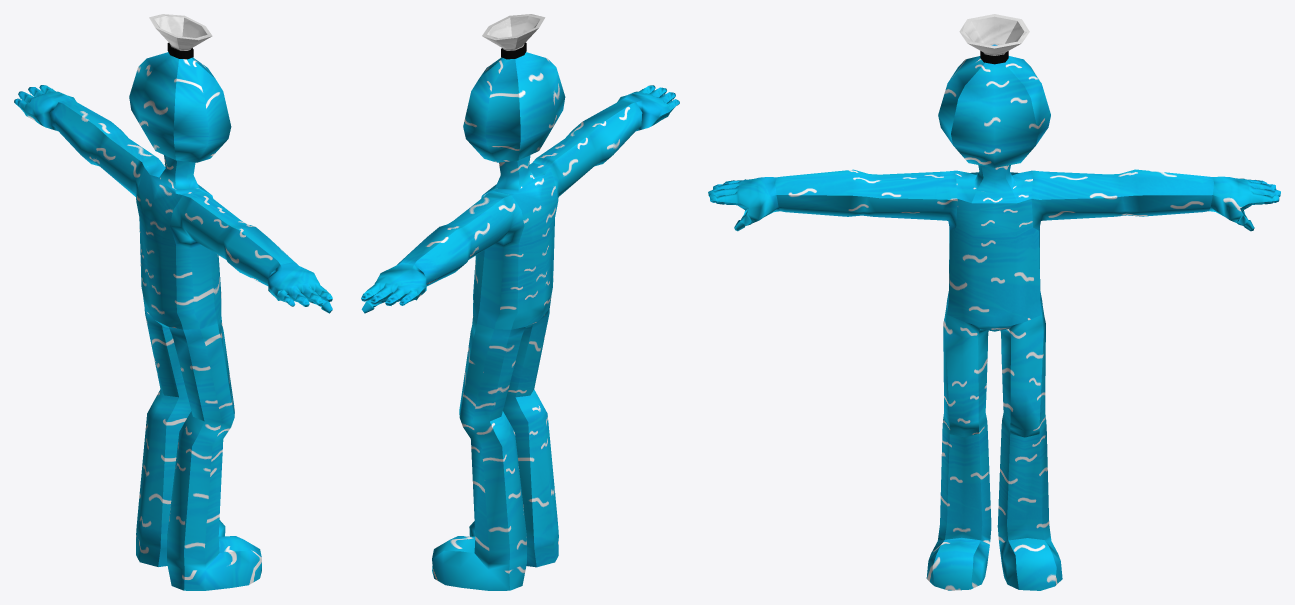
Rendered from GoldFishBagCharacter.fbx.
3 renders of one model, left to right at view 1: azimuth 30°, elevation 25°; view 2: azimuth 150°, elevation 25°; view 3: azimuth 270°, elevation 25°, orthographic.
Parts seen in each view (by area): view 1: _100Avatars_106_GoldfishBagPerson__1_; view 2: _100Avatars_106_GoldfishBagPerson__1_; view 3: _100Avatars_106_GoldfishBagPerson__1_.
Part boxes in pixels (x1,y1,x2,y2): _100Avatars_106_GoldfishBagPerson__1_: (14,14,332,590); _100Avatars_106_GoldfishBagPerson__1_: (361,14,679,590); _100Avatars_106_GoldfishBagPerson__1_: (708,14,1280,590).
Size of the model in its own units: 0.9713 by 5.08 by 4.91.
1 material, 1 textured.
